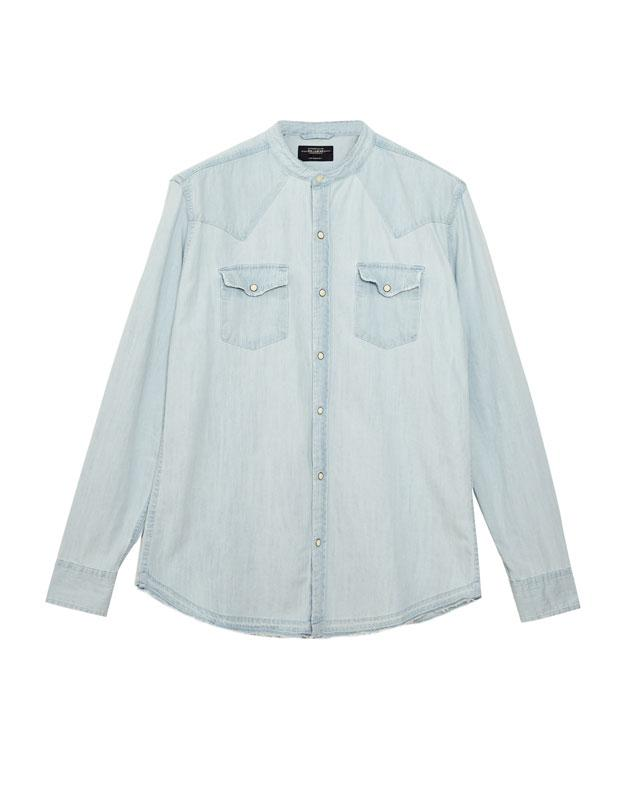teeshirt: (47, 111, 590, 668)
